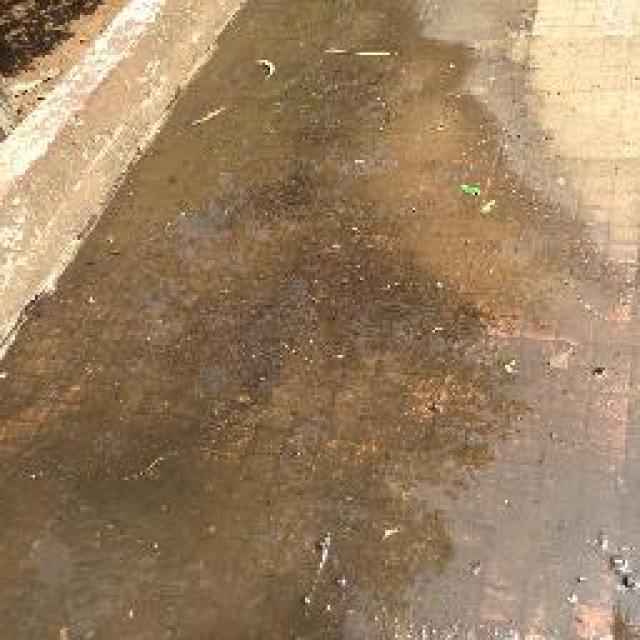stagnation: (8, 3, 637, 640)
